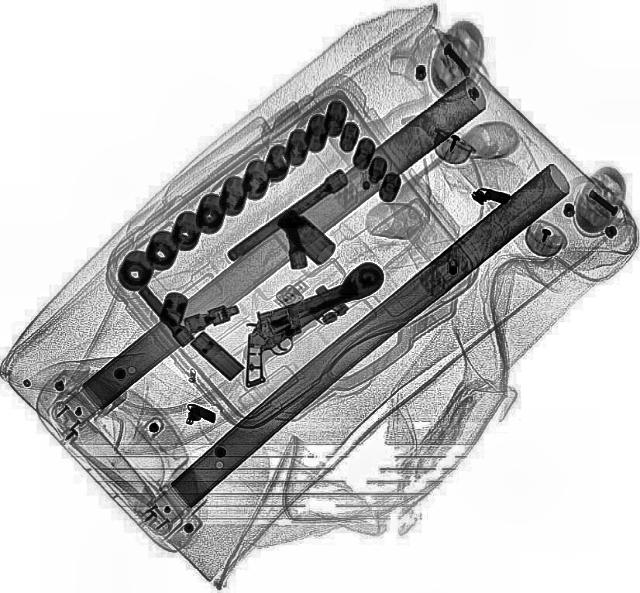Gun: (218, 275, 400, 389)
